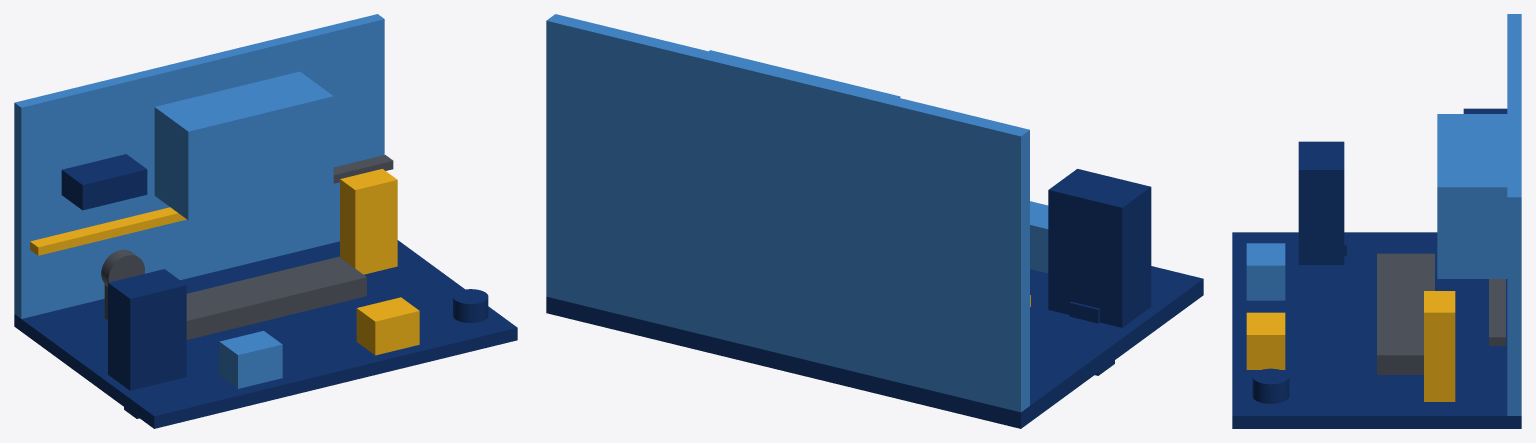
Rendered from HR30_first_energization_instrument_bench_candidate.glb.
3 renders of one model, left to right at view 1: azimuth 30°, elevation 25°; view 2: azimuth 150°, elevation 25°; view 3: azimuth 270°, elevation 25°, orthographic. The views are drawn at different scales.
Visible parts, largest first — view 1: BACK_PANEL, BENCH_BASE, MDO34_SCOPE, FLIR_E8_PRO, TERMINAL_GUARD, FLUKE_87VMAX, CDAQ_9174, VIDEO_B, VIDEO_A, CABLE_RAIL_A, TCP0150_CLAMP, E_STOP_REPEATER_ENVELOPE (+1 smaller); view 2: BACK_PANEL, BENCH_BASE, FLIR_E8_PRO, VIDEO_A; view 3: BENCH_BASE, MDO34_SCOPE, TERMINAL_GUARD, BACK_PANEL, FLIR_E8_PRO, FLUKE_87VMAX, VIDEO_A, VIDEO_B, E_STOP_REPEATER_ENVELOPE, CABLE_RAIL_B.
Boxes of the visible parts, x1,y1,x2,y2 form: BACK_PANEL: (14,14,384,318); BENCH_BASE: (14,240,517,428); MDO34_SCOPE: (154,71,333,220); FLIR_E8_PRO: (108,269,186,418); TERMINAL_GUARD: (186,256,366,339); FLUKE_87VMAX: (340,169,397,274); CDAQ_9174: (61,154,147,210); VIDEO_B: (356,297,419,355); VIDEO_A: (219,331,282,388); CABLE_RAIL_A: (30,207,186,255); TCP0150_CLAMP: (101,249,144,319); E_STOP_REPEATER_ENVELOPE: (453,289,488,322); BACK_PANEL: (546,14,1029,412); BENCH_BASE: (546,266,1203,428); FLIR_E8_PRO: (1048,169,1151,375); VIDEO_A: (1030,201,1048,273); BENCH_BASE: (1232,232,1521,428); MDO34_SCOPE: (1437,114,1507,278); TERMINAL_GUARD: (1377,253,1434,374); BACK_PANEL: (1507,14,1521,415); FLIR_E8_PRO: (1298,141,1346,264); FLUKE_87VMAX: (1424,291,1455,401); VIDEO_A: (1246,243,1285,300); VIDEO_B: (1246,312,1285,369); E_STOP_REPEATER_ENVELOPE: (1252,368,1289,403); CABLE_RAIL_B: (1489,279,1505,345).
Bounding box in the file's own units: 900 × 595 × 600.
